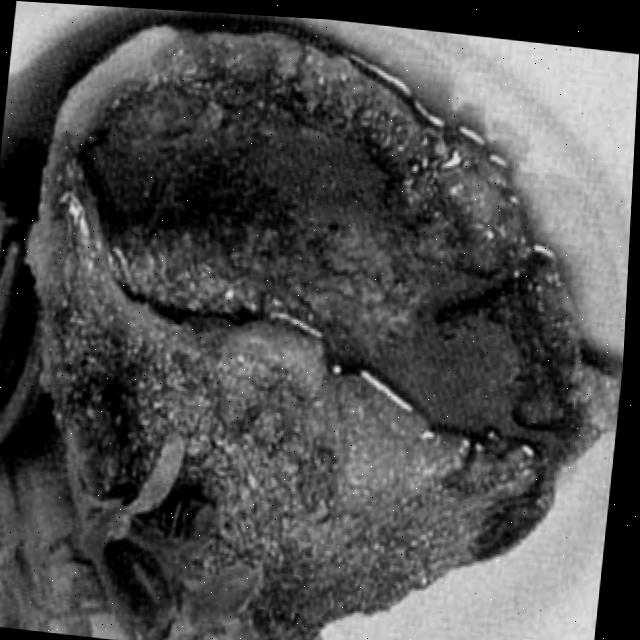牛肉菜式: (0, 1, 629, 640)
